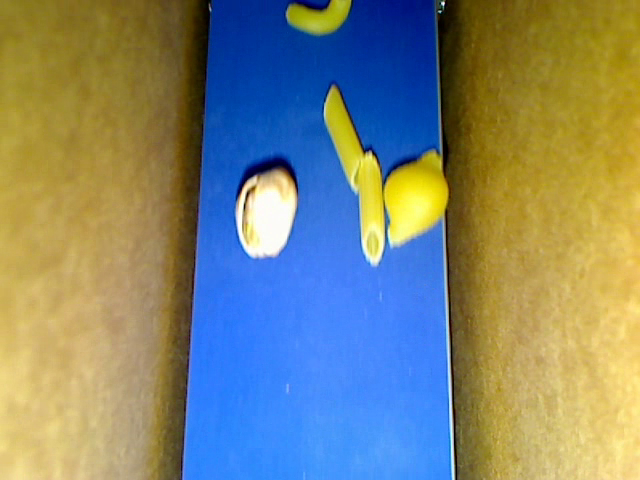elbow: (285, 1, 351, 39)
penne: (323, 83, 364, 195), (359, 148, 385, 267)
shell: (383, 148, 449, 248)
